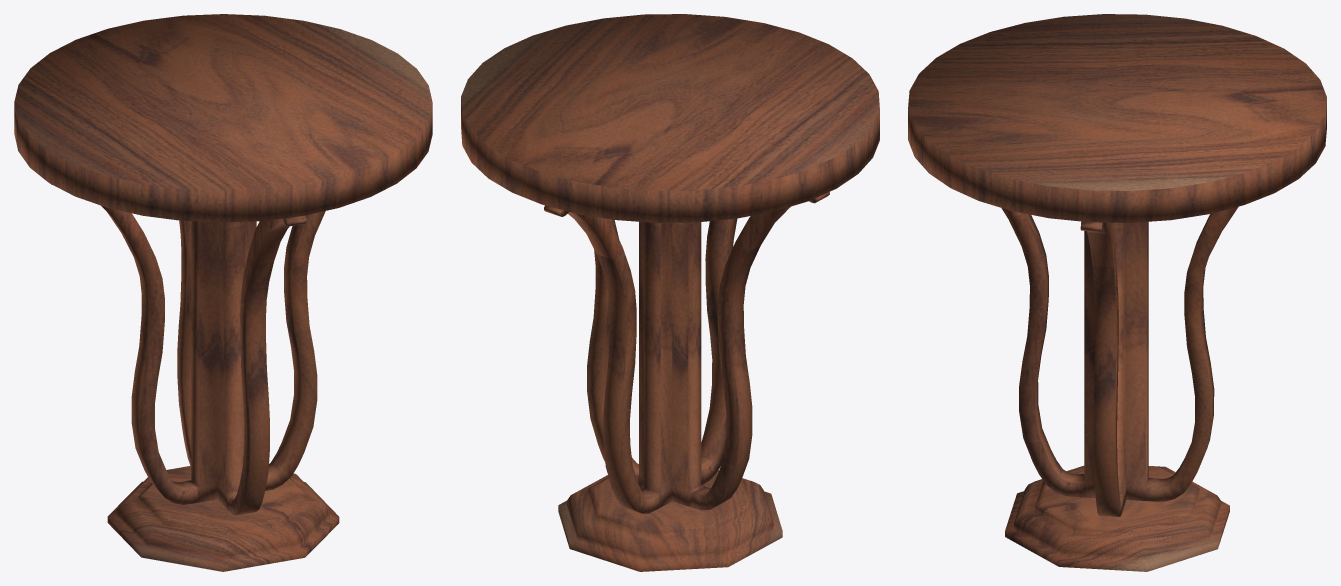
Rendered from table.dae.
The picture shows the model from 3 angles, left to right: view 1: azimuth 30°, elevation 25°; view 2: azimuth 150°, elevation 25°; view 3: azimuth 270°, elevation 25°; orthographic projection.
Visible parts, largest first — view 1: plateau, pied, socle; view 2: plateau, pied, socle; view 3: plateau, pied, socle.
Boxes of the visible parts, bbox=[...] form: plateau: bbox=[14, 14, 432, 222]; pied: bbox=[51, 184, 325, 515]; socle: bbox=[107, 466, 339, 571]; plateau: bbox=[461, 14, 879, 222]; pied: bbox=[544, 192, 829, 513]; socle: bbox=[558, 470, 782, 571]; plateau: bbox=[908, 14, 1326, 222]; pied: bbox=[1001, 206, 1238, 516]; socle: bbox=[1005, 465, 1229, 571].
Bounding box in the file's own units: 0.9913 × 1.1 × 0.9913.
3 materials, 3 textured.
